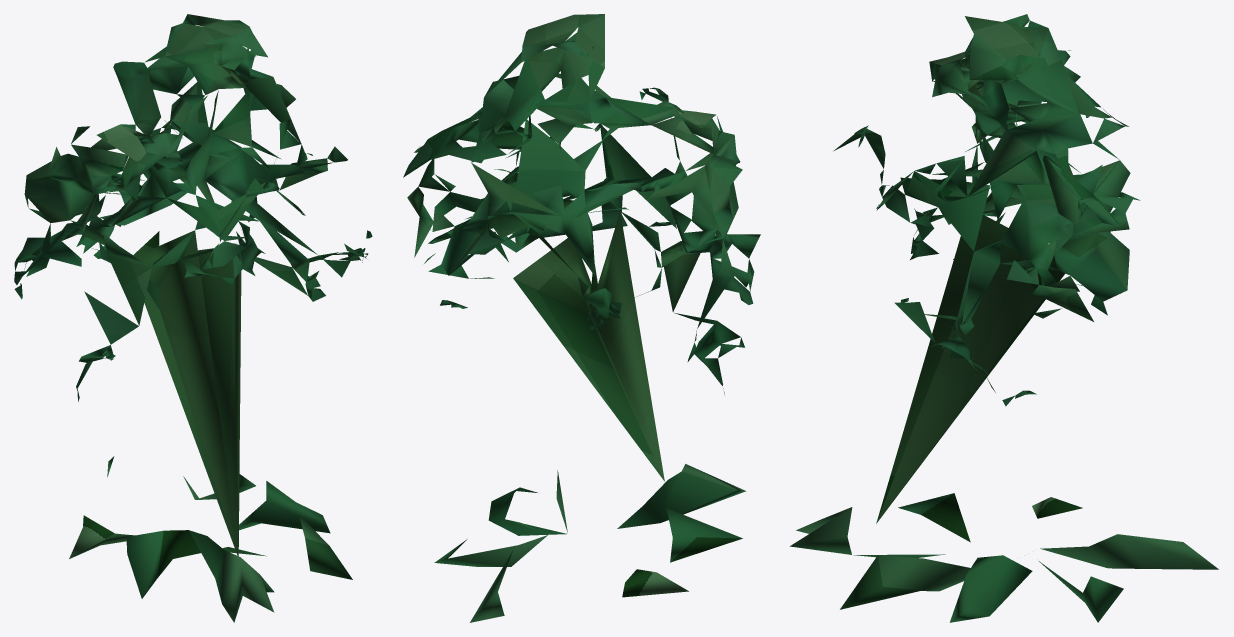
The model's file is tree_mossy_shadow.glb.
3 renders of one model, left to right at view 1: azimuth 30°, elevation 25°; view 2: azimuth 150°, elevation 25°; view 3: azimuth 270°, elevation 25°, orthographic. The views are drawn at different scales.
Parts seen in each view (by area): view 1: plant; view 2: plant; view 3: plant.
Part boxes in pixels (x1,y1,x2,y2): plant: [14, 14, 372, 622]; plant: [403, 14, 760, 622]; plant: [790, 14, 1218, 622].
Size of the model in its own units: 3.14 by 4.65 by 3.28.
1 material, 1 textured.
